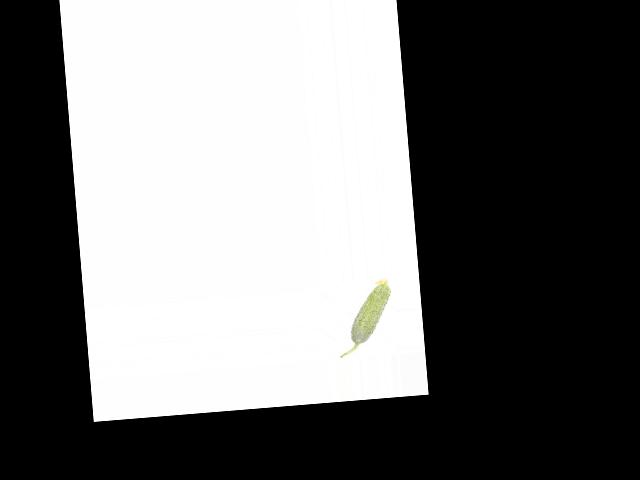cucumber: (334, 277, 396, 357)
